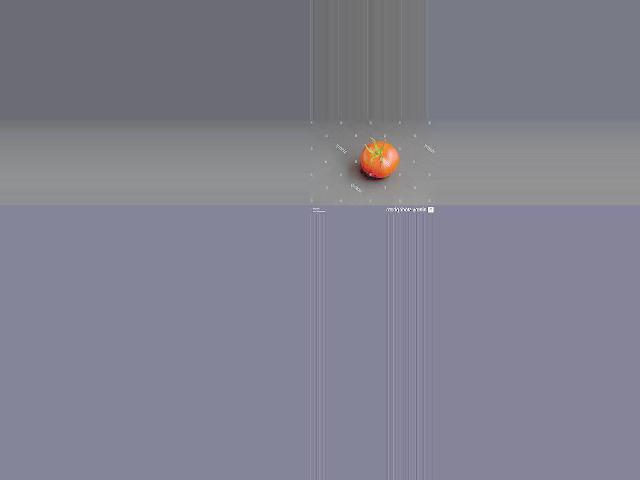tomato: (359, 141, 398, 176)
